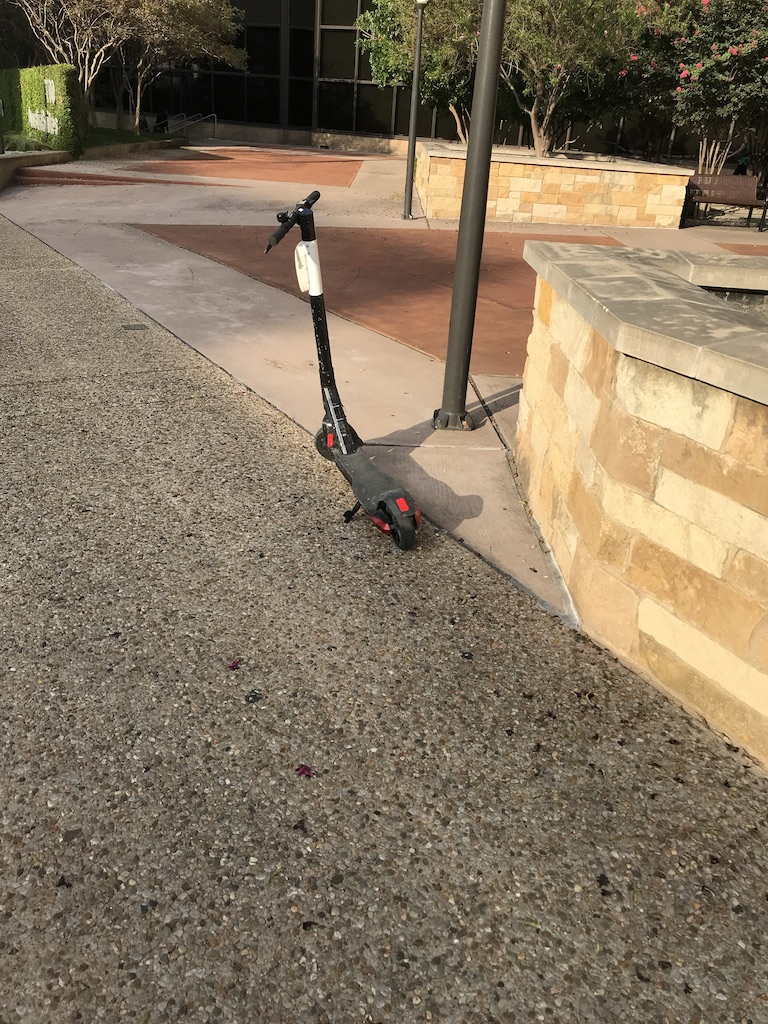scooter: (266, 192, 423, 551)
